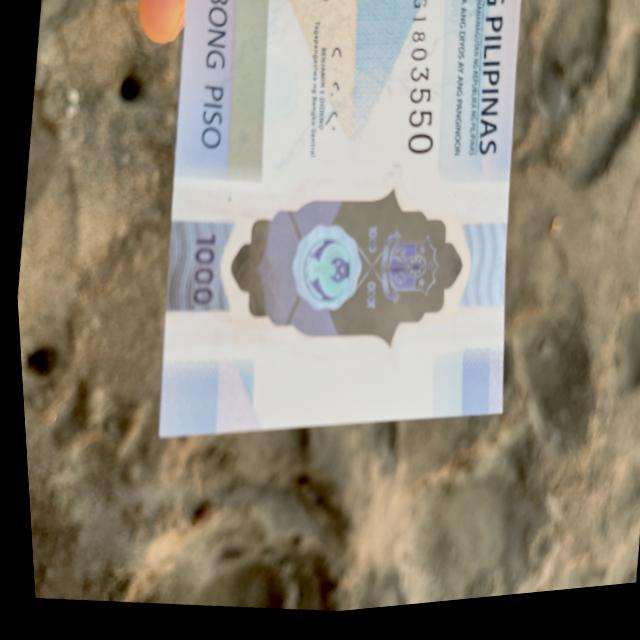clear_window: (139, 136, 515, 411)
